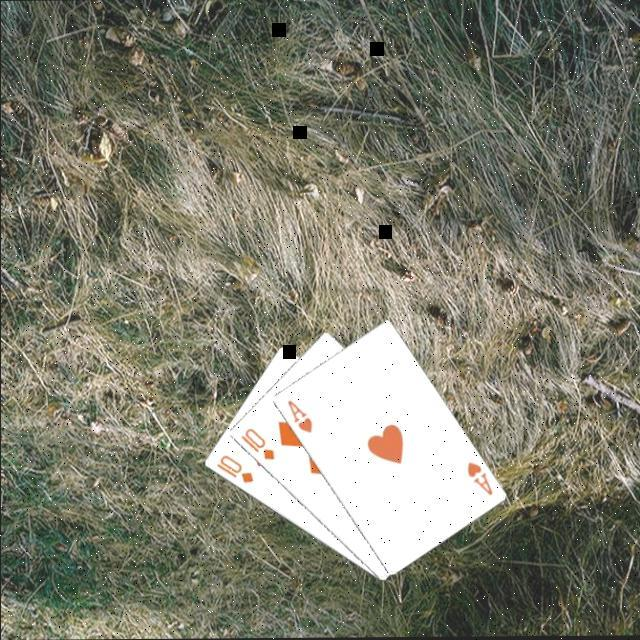10D: (238, 426, 278, 464), (214, 453, 257, 488)
AH: (284, 398, 316, 438), (464, 460, 496, 500)
